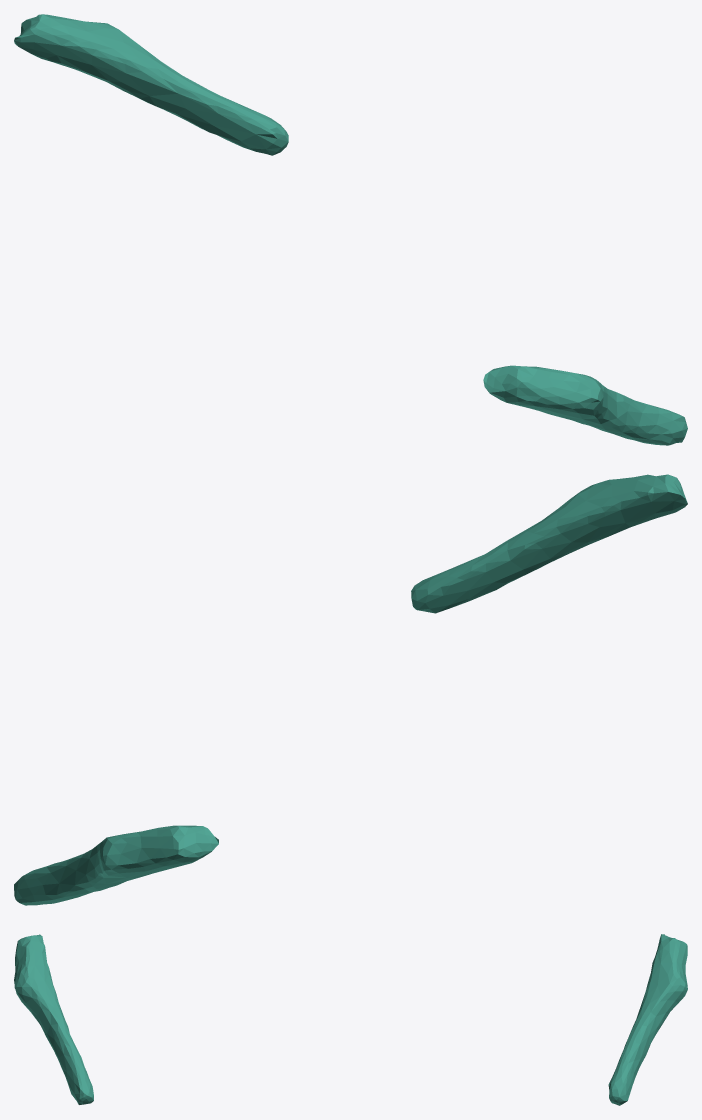
3 views of the same model, one above another, from view 1: azimuth 30°, elevation 25°; view 2: azimuth 150°, elevation 25°; view 3: azimuth 270°, elevation 25° (orthographic). The views are drawn at different scales.
Parts seen in each view (by area): view 1: 182305705.obj; view 2: 182305705.obj; view 3: 182305705.obj.
Boxes of the visible parts, x1=… form: 182305705.obj: x1=14, y1=14, x2=687, y2=445; 182305705.obj: x1=14, y1=474, x2=687, y2=905; 182305705.obj: x1=14, y1=934, x2=687, y2=1105.
Bounding box in the file's own units: 1659 × 1029 × 6030.
